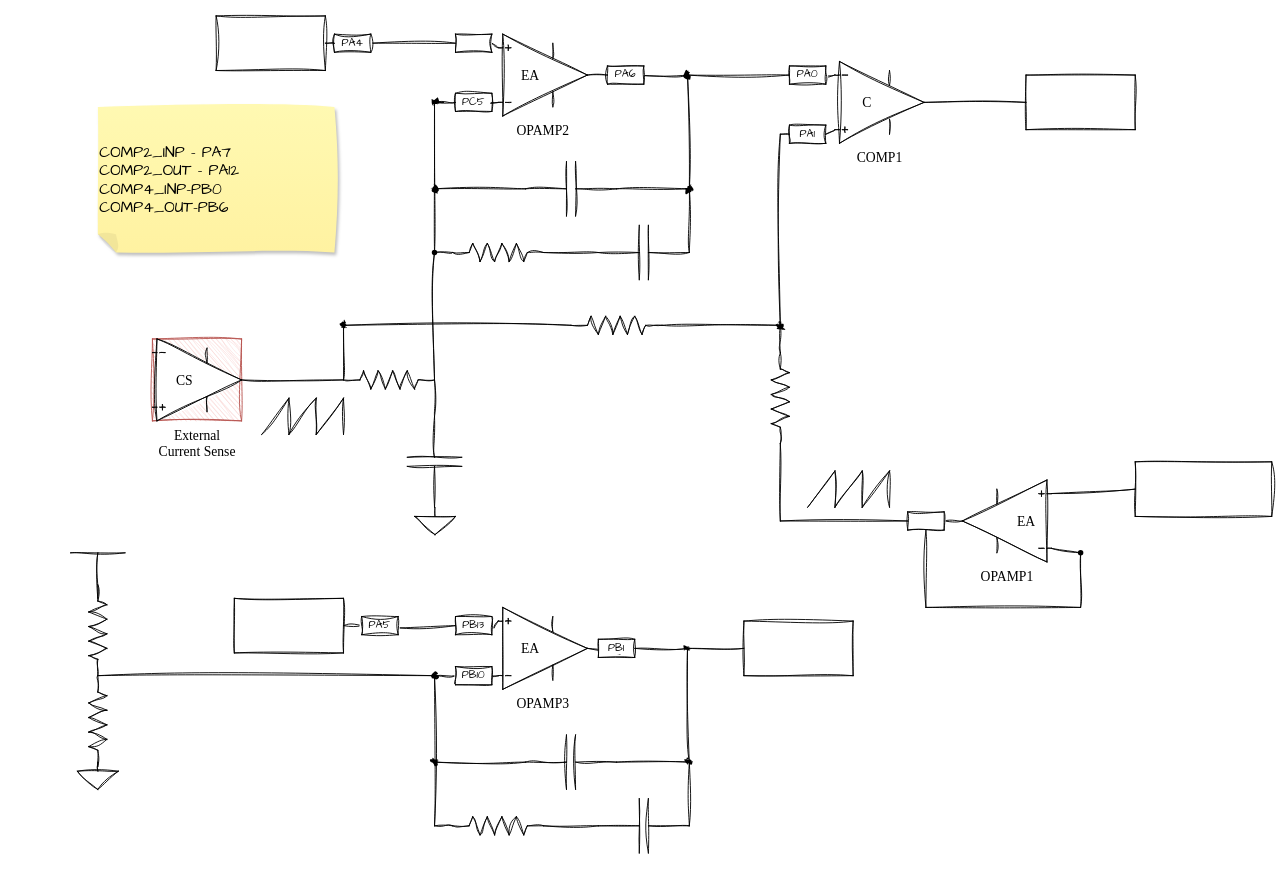
Image size: 1288x869. Some labels were removed from this diagram. The shapes that lost their labels are listed below. From the top down, each one's centre as x and y in pixels, then its label:
At [270,43]: "DAC1/CH1 Iref".
At [473,42]: "PB14".
At [1080,102]: "TIM15".
At [1203,488]: "DAC3/CH1 Slope Compensation".
At [925,520]: "PA2".
At [97,575]: "Vout".
At [288,625]: "DAC1/CH2 Vref".
At [798,648]: "ADC".
